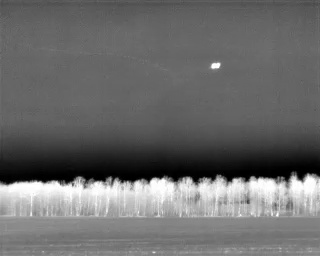DRONE: (207, 58, 226, 75)
